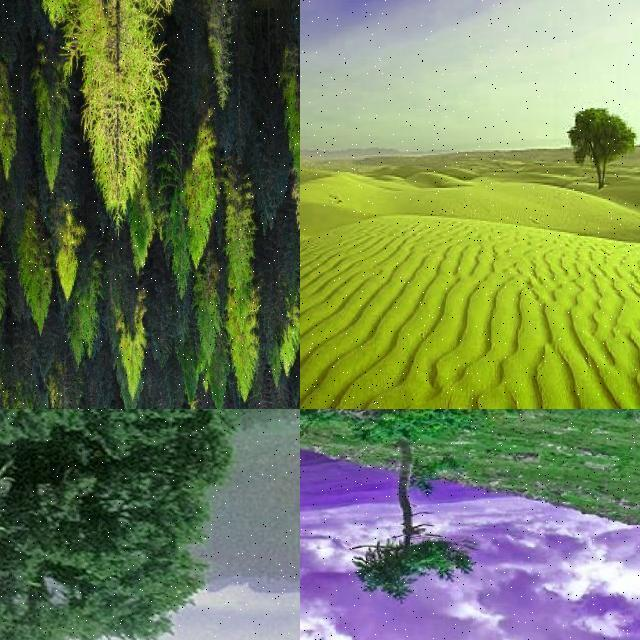tree: (0, 408, 300, 640), (43, 0, 181, 216), (346, 466, 472, 596), (253, 9, 287, 239), (571, 88, 640, 195), (219, 162, 255, 322), (183, 125, 217, 275), (19, 208, 53, 332), (255, 235, 285, 368), (203, 0, 240, 104), (280, 48, 300, 220), (230, 36, 254, 158), (146, 284, 174, 376), (122, 305, 146, 403), (176, 306, 197, 406), (197, 274, 220, 362), (232, 318, 256, 402), (1, 240, 20, 340), (57, 220, 79, 300), (0, 268, 14, 388), (282, 223, 300, 311), (0, 86, 16, 176), (0, 112, 12, 228), (130, 202, 150, 268), (206, 353, 226, 409), (2, 377, 34, 409), (88, 369, 112, 409), (0, 166, 12, 246), (34, 356, 50, 408), (165, 368, 182, 408), (8, 0, 44, 18), (253, 375, 271, 409), (270, 372, 286, 408), (0, 354, 10, 410), (0, 373, 10, 409), (0, 338, 6, 366)
